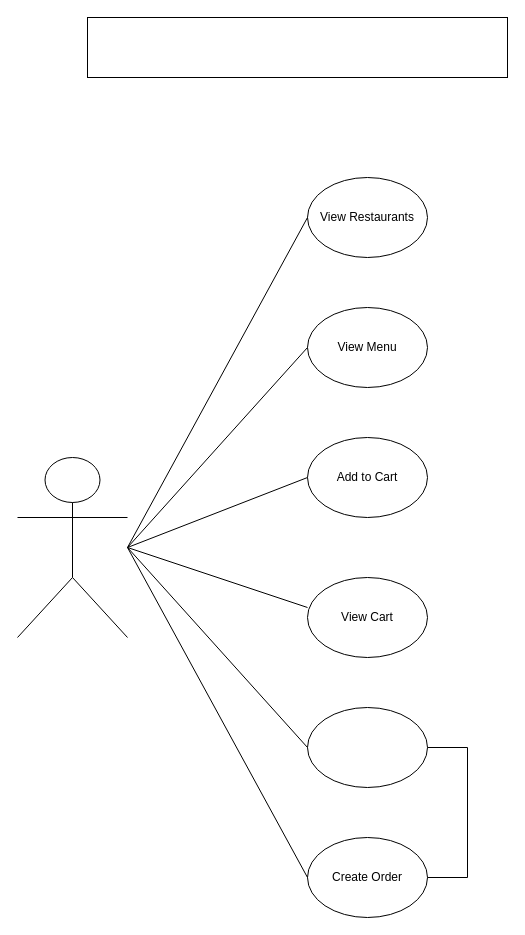
Image size: 525x935. Some labels were removed from this diagram. Here are the shapes that lost their labels. From the top down, the centre of each, then its label:
(x=297, y=47): FOOD ORDERING SYSTEM USE CASE DIAGRAM
(x=72, y=547): User
(x=367, y=747): Make Payment
